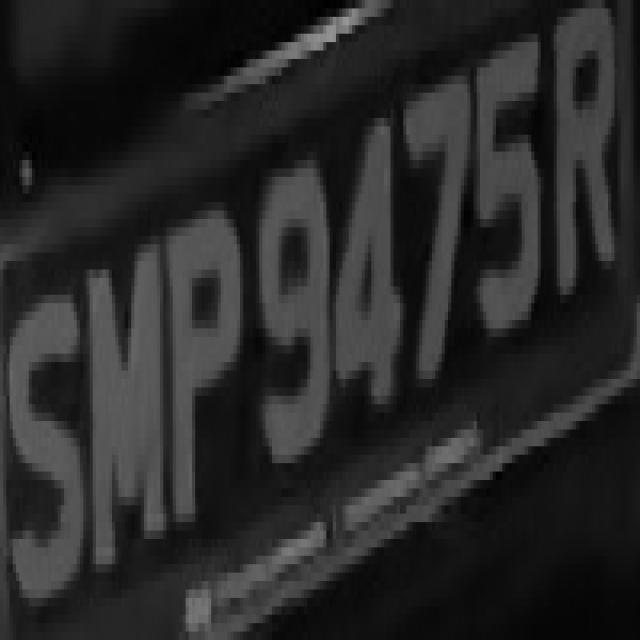4: (330, 84, 403, 447)
5: (467, 34, 538, 354)
7: (396, 76, 474, 421)
9: (253, 118, 336, 480)
M: (83, 219, 163, 589)
P: (160, 202, 246, 556)
R: (534, 0, 538, 17)
S: (0, 4, 1, 8)
